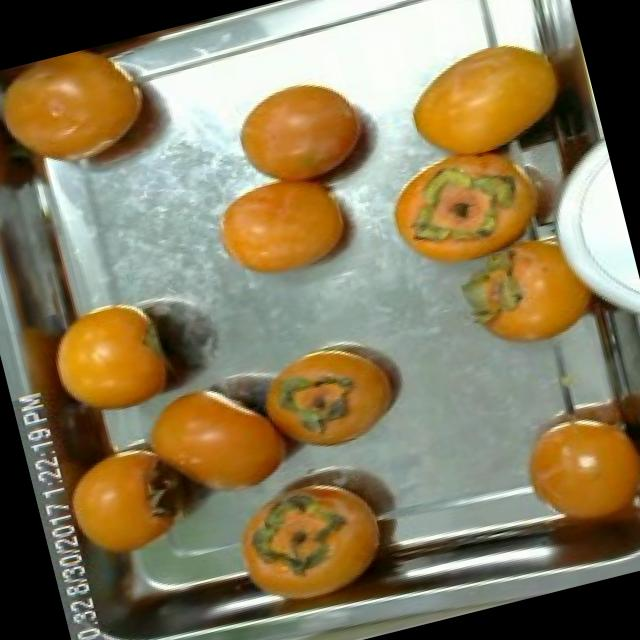Fruit: (202, 434, 420, 621), (380, 14, 586, 180), (0, 31, 189, 201), (491, 383, 640, 596), (122, 364, 314, 528), (212, 54, 398, 216), (436, 213, 616, 376), (241, 321, 428, 477), (50, 416, 224, 583), (194, 152, 378, 304), (23, 274, 195, 432)
